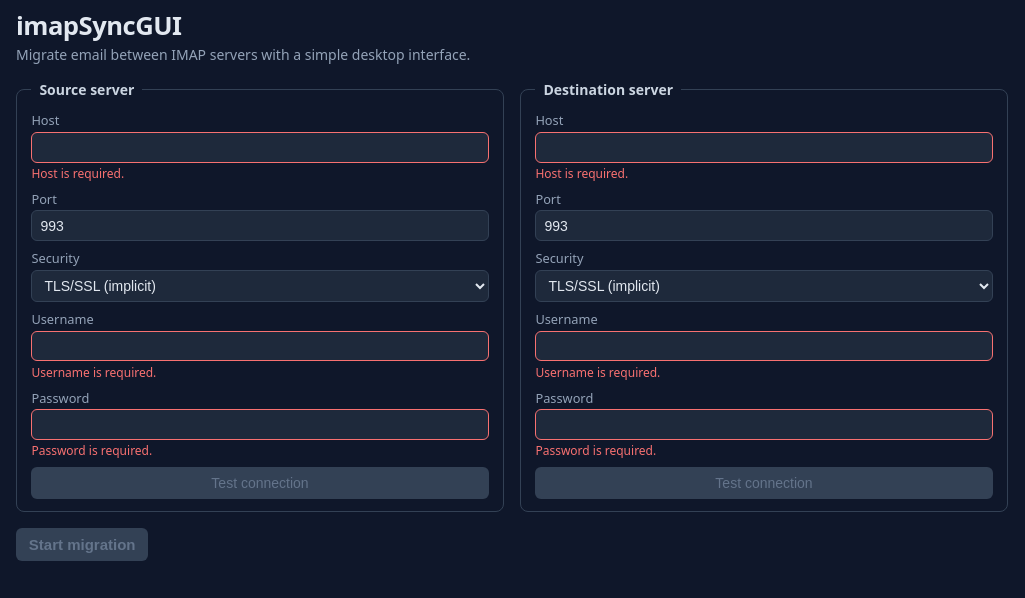
Test: App migration form › validates the port field
The width and height of the screenshot is (1025, 598).
Replace the text in the field labelled "Port" below "Source server" with "abc" at (260, 226), box [31, 210, 489, 241]
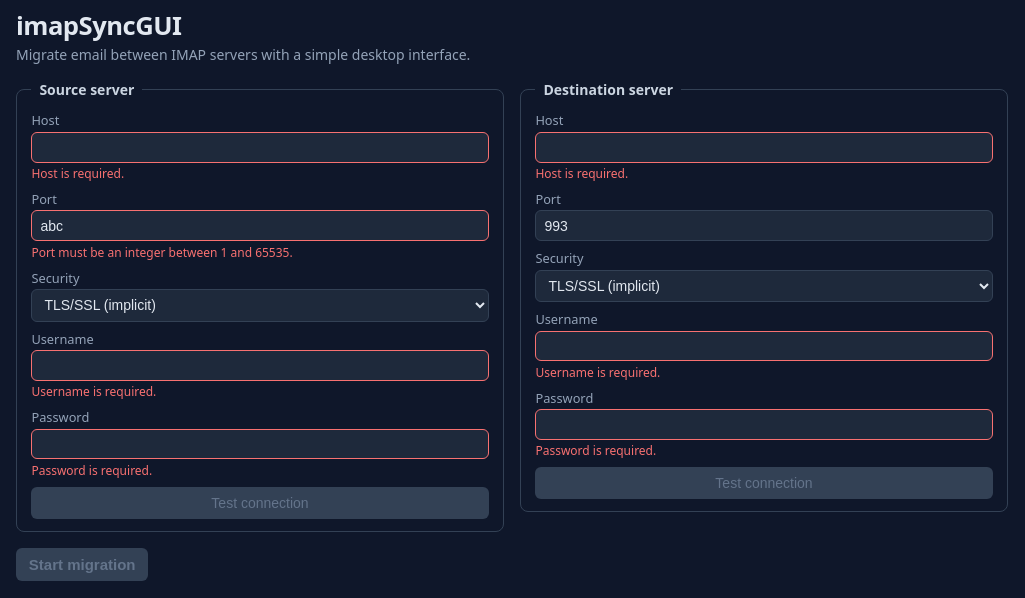
Expected: the text "Port must be an integer between 1 and 65535." is shown, [31, 244, 293, 260]
